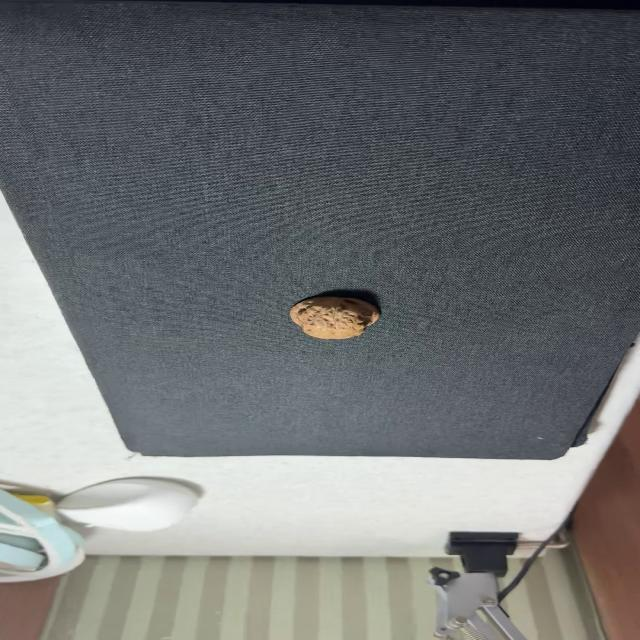nuts-bad0.5: (290, 296, 379, 339)
